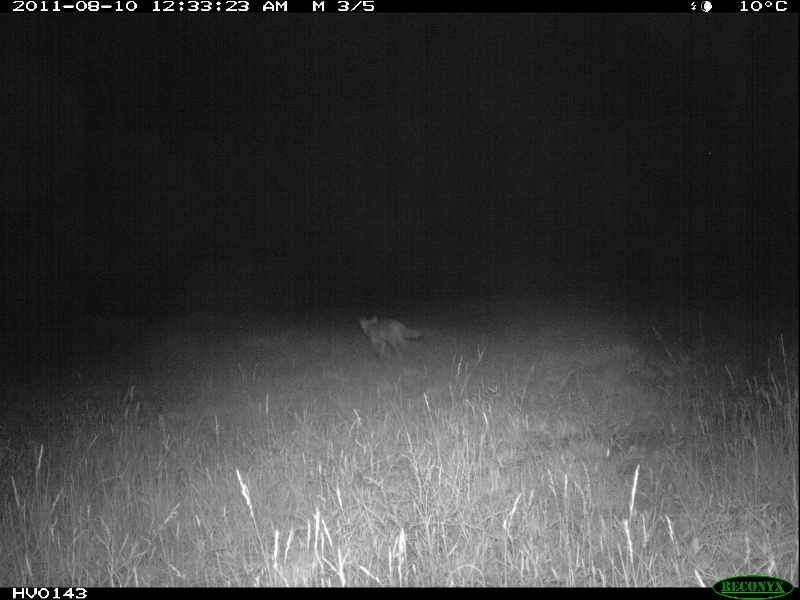fox: (360, 313, 425, 356)
